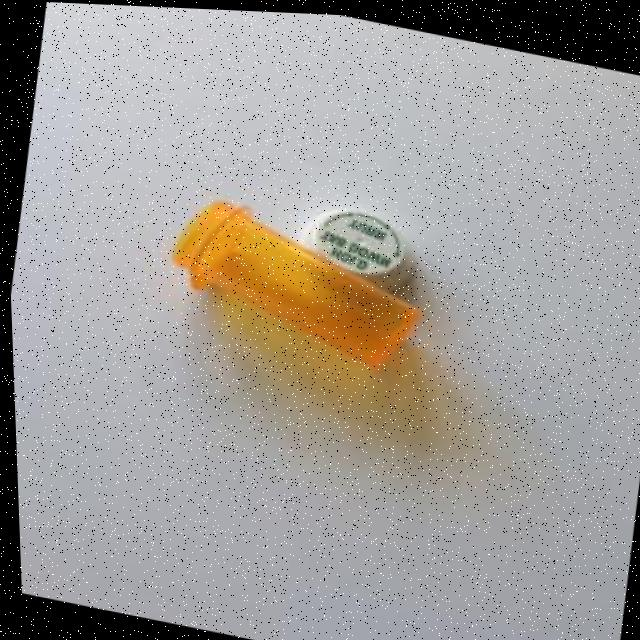plastic: (146, 153, 441, 382)
